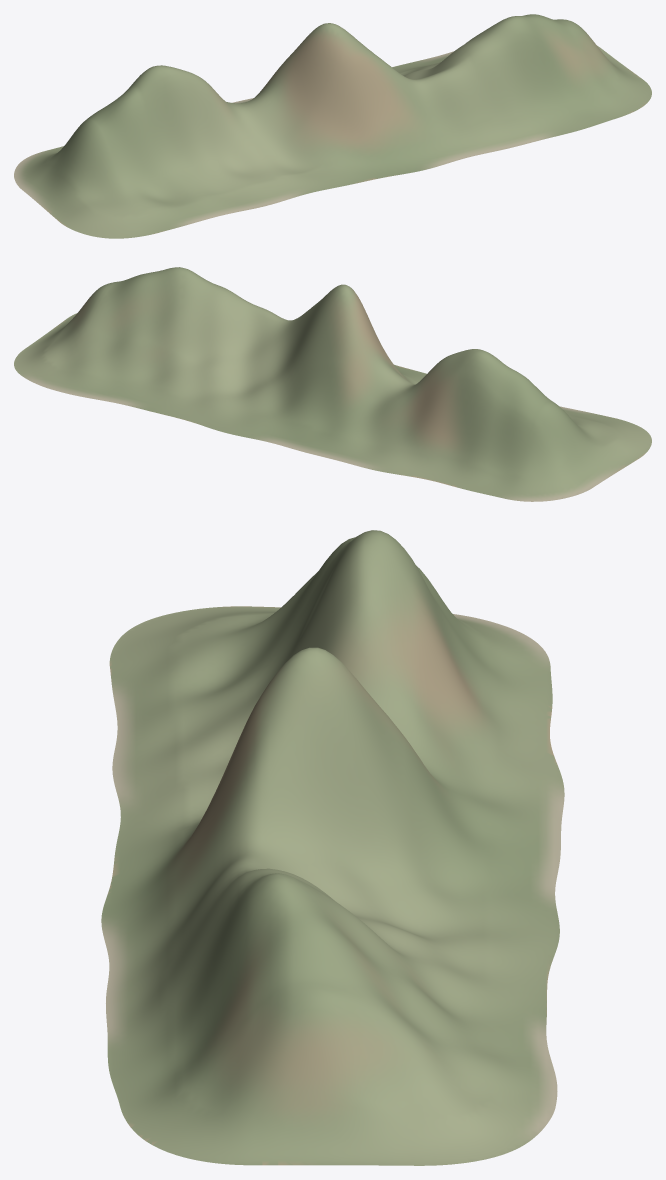
The model's file is Stage 2 Central Reserve.glb.
3 renders of one model, top to bottom at view 1: azimuth 30°, elevation 25°; view 2: azimuth 150°, elevation 25°; view 3: azimuth 270°, elevation 25°, orthographic. The views are drawn at different scales.
Parts seen in each view (by area): view 1: STAGE2 Central Sandstone Bushland Reserve; view 2: STAGE2 Central Sandstone Bushland Reserve; view 3: STAGE2 Central Sandstone Bushland Reserve.
Boxes of the visible parts, x1,y1,x2,y2 form: STAGE2 Central Sandstone Bushland Reserve: (14, 14, 651, 238); STAGE2 Central Sandstone Bushland Reserve: (14, 267, 651, 501); STAGE2 Central Sandstone Bushland Reserve: (101, 530, 564, 1165).
Bounding box in the file's own units: 306 × 58.69 × 107.
